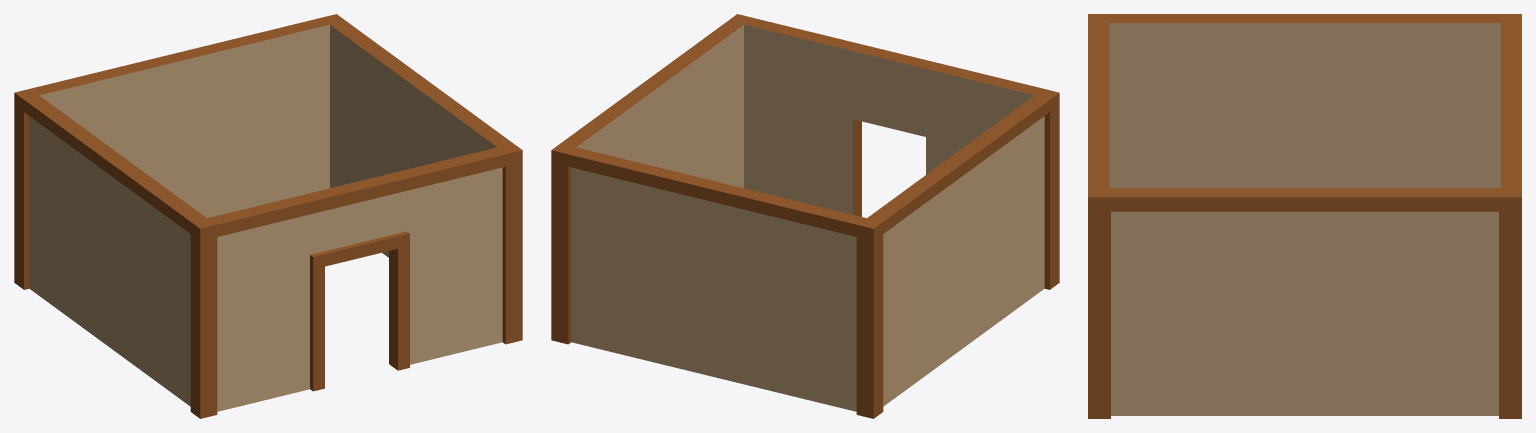
File: Building_Modular_Jetty_Walkway_Timber_Hut_Base_01.fbx
3 renders of one model, left to right at view 1: azimuth 30°, elevation 25°; view 2: azimuth 150°, elevation 25°; view 3: azimuth 270°, elevation 25°, orthographic. The views are drawn at different scales.
Parts seen in each view (by area): view 1: Building_Modular_Jetty_Walkway_Timber_Hut_Base_01; view 2: Building_Modular_Jetty_Walkway_Timber_Hut_Base_01; view 3: Building_Modular_Jetty_Walkway_Timber_Hut_Base_01.
Part boxes in pixels (box(x1,y1,x2,y2)): Building_Modular_Jetty_Walkway_Timber_Hut_Base_01: box(14, 14, 522, 418); Building_Modular_Jetty_Walkway_Timber_Hut_Base_01: box(551, 14, 1059, 418); Building_Modular_Jetty_Walkway_Timber_Hut_Base_01: box(1088, 14, 1521, 418).
Bounding box in the file's own units: 4928 × 2778 × 4928.
